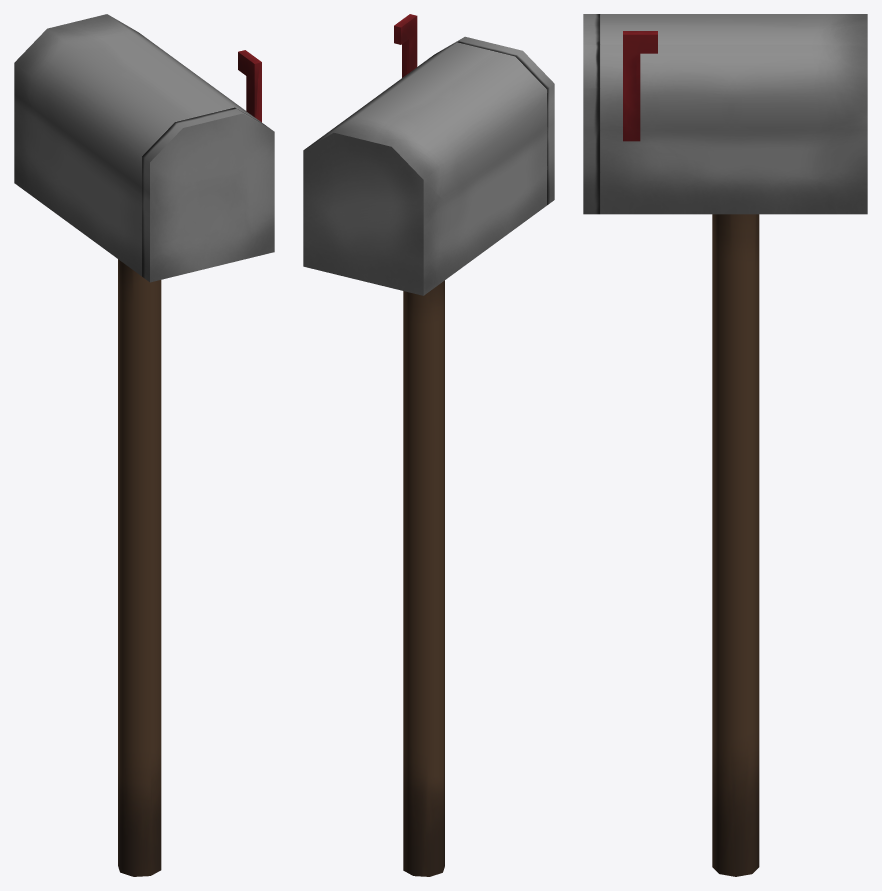
The model's file is mailbox.fbx.
The picture shows the model from 3 angles, left to right: view 1: azimuth 30°, elevation 25°; view 2: azimuth 150°, elevation 25°; view 3: azimuth 270°, elevation 25°; orthographic projection. The views are drawn at different scales.
Visible parts, largest first — view 1: Cube; view 2: Cube; view 3: Cube.
Part boxes in pixels (x1,y1,x2,y2): Cube: (14,14,274,876); Cube: (303,14,554,876); Cube: (583,14,867,876).
Bounding box in the file's own units: 55.75 × 337 × 100.
